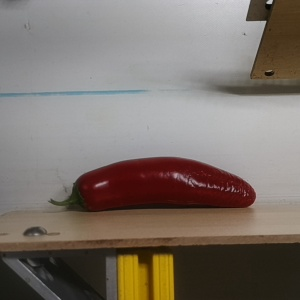Cut Point: (67, 174, 97, 212)
